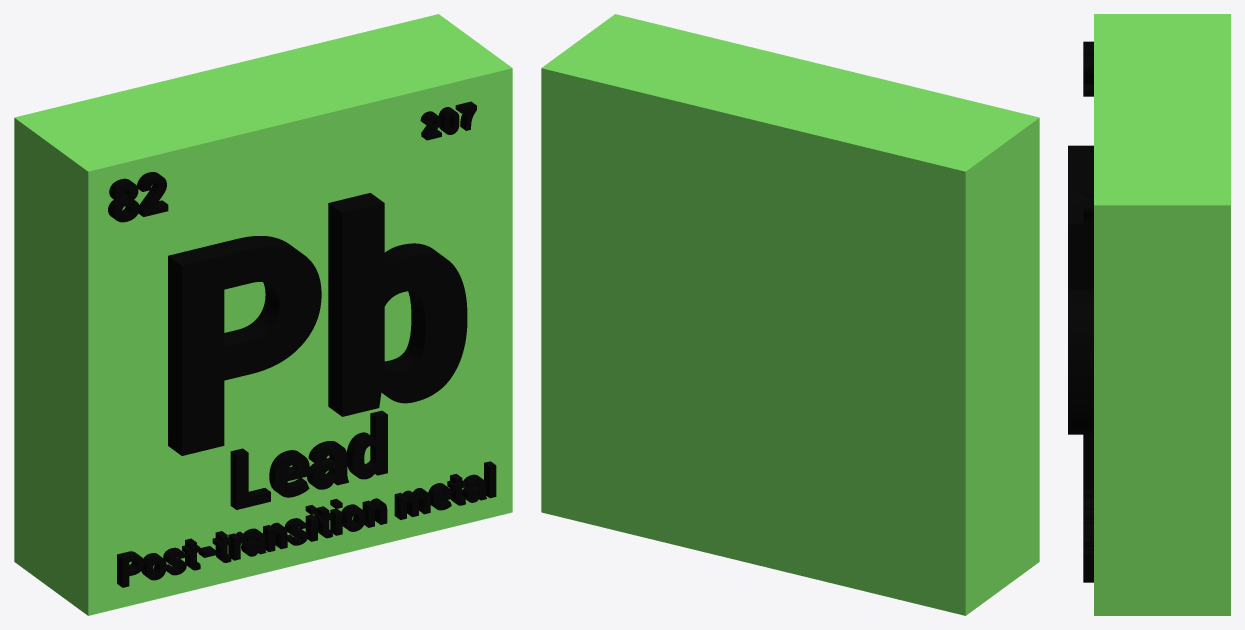
3 views of the same model, side by side, from view 1: azimuth 30°, elevation 25°; view 2: azimuth 150°, elevation 25°; view 3: azimuth 270°, elevation 25° (orthographic). The views are drawn at different scales.
Visible parts, largest first — view 1: Cube, Text, Text.002, Text.001, Text.003, Text.004; view 2: Cube; view 3: Cube, Text, Text.002, Text.003, Text.001, Text.004.
Part boxes in pixels (x1,y1,x2,y2): Cube: (14, 14, 512, 615); Text: (168, 193, 467, 455); Text.002: (117, 461, 496, 587); Text.001: (230, 410, 387, 509); Text.003: (108, 172, 168, 222); Text.004: (420, 101, 476, 140); Cube: (541, 14, 1039, 615); Cube: (1094, 14, 1230, 615); Text: (1068, 145, 1093, 434); Text.002: (1083, 487, 1093, 582); Text.003: (1083, 41, 1093, 96); Text.001: (1083, 434, 1093, 487); Text.004: (1083, 187, 1093, 226).
Size of the model in its own units: 178 by 178 by 63.95.
